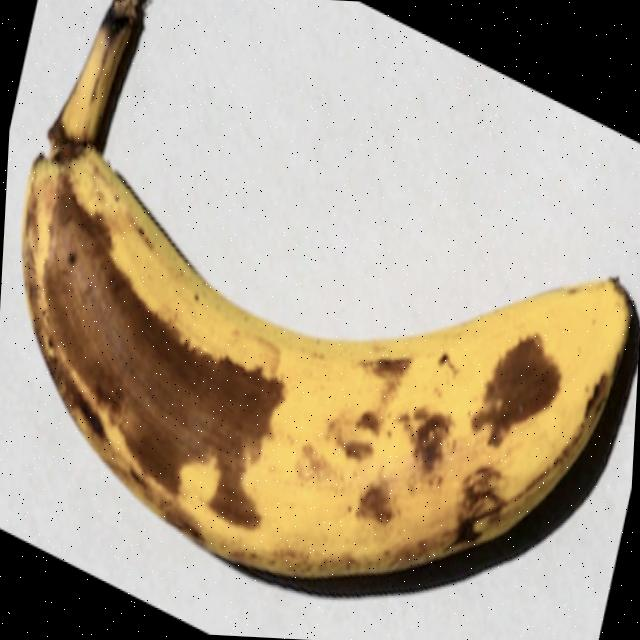rotten banana: (0, 46, 640, 637)
